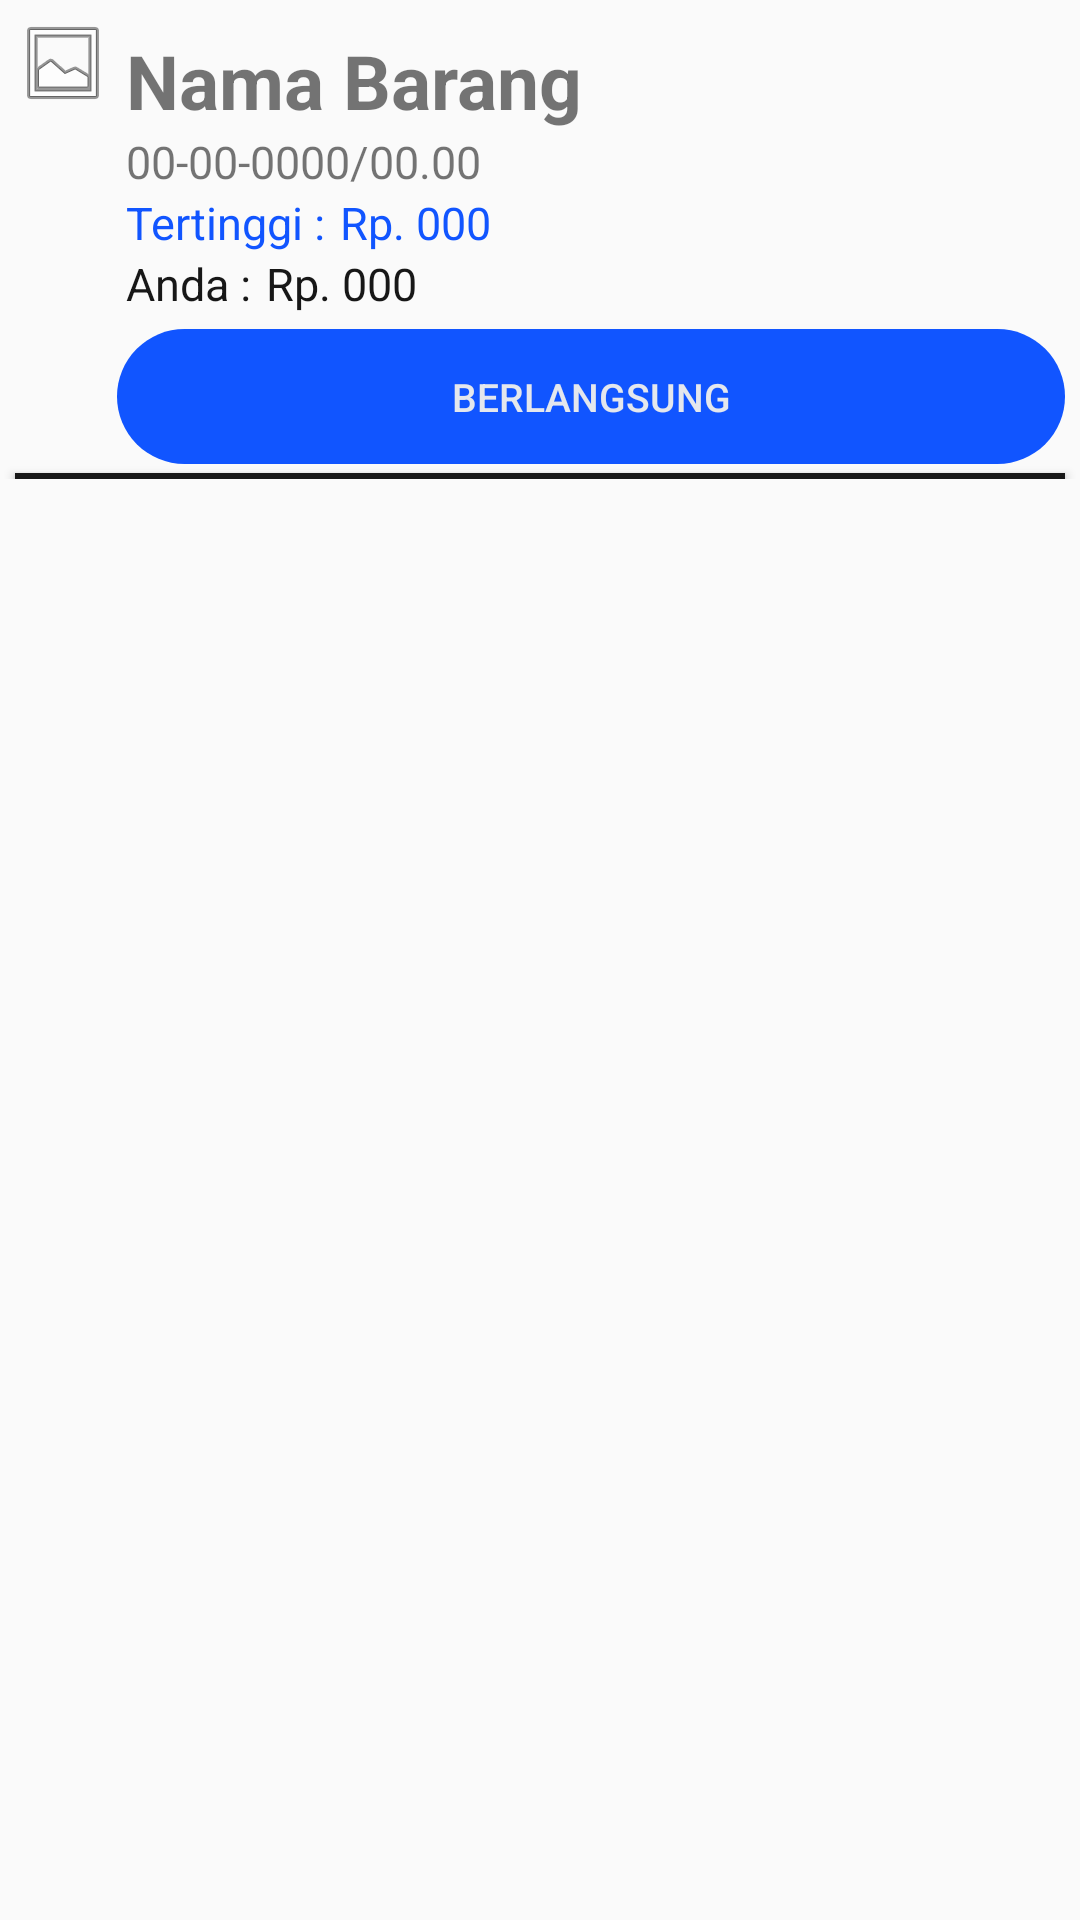

Point at icon controls on the screen. Image size 1080px x 1920px, points as [x,y].
gallery: [63,63]
